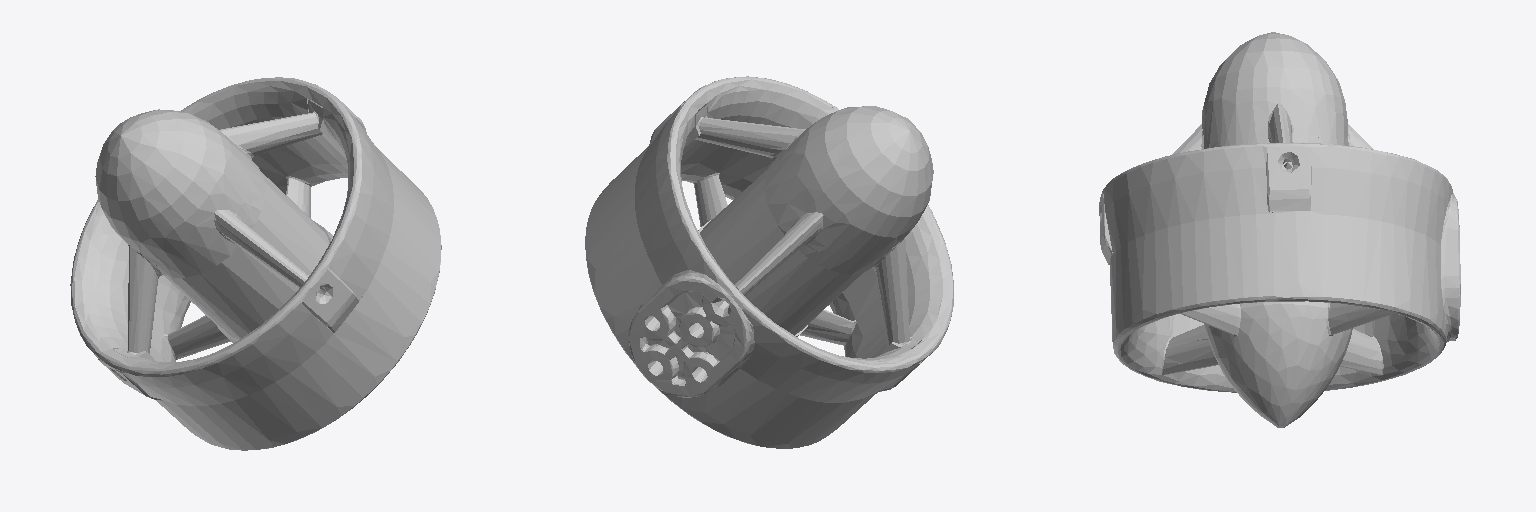
Rendered from duct_bottom_left_vis.obj.
3 renders of one model, left to right at view 1: azimuth 30°, elevation 25°; view 2: azimuth 150°, elevation 25°; view 3: azimuth 270°, elevation 25°, orthographic.
Visible parts, largest first — view 1: duct_bottom_left_vis; view 2: duct_bottom_left_vis; view 3: duct_bottom_left_vis.
Boxes of the visible parts, x1,y1,x2,y2 form: duct_bottom_left_vis: [70, 77, 441, 450]; duct_bottom_left_vis: [585, 76, 953, 448]; duct_bottom_left_vis: [1099, 32, 1460, 427].
Bounding box in the file's own units: 0.0974 × 0.0989 × 0.0977.